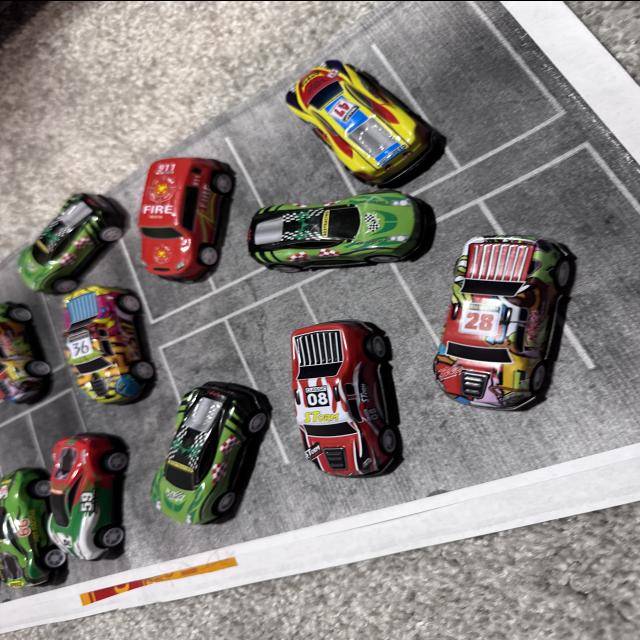car: (254, 40, 472, 196), (108, 106, 255, 311), (434, 210, 560, 422), (284, 312, 422, 504), (253, 152, 462, 270), (163, 365, 280, 557), (0, 182, 153, 318), (22, 426, 140, 582), (50, 266, 166, 416), (0, 207, 56, 420), (0, 455, 51, 640)
